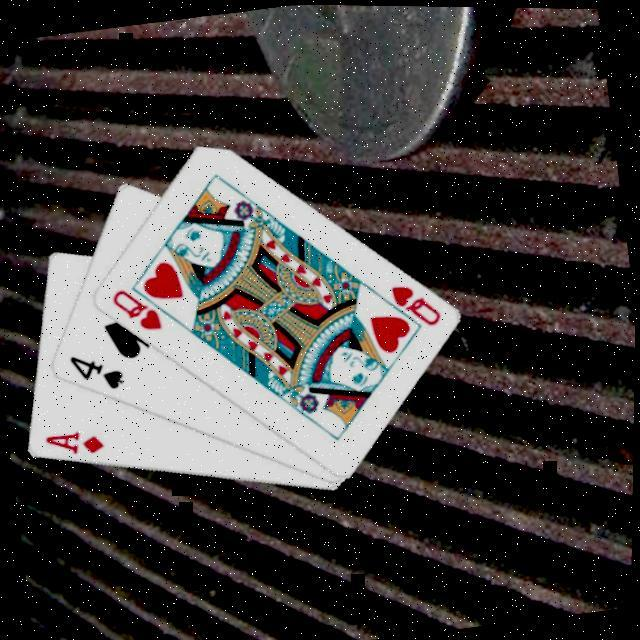4S: (64, 348, 129, 401)
AD: (41, 426, 107, 466)
QH: (370, 277, 446, 339), (106, 283, 166, 342)
